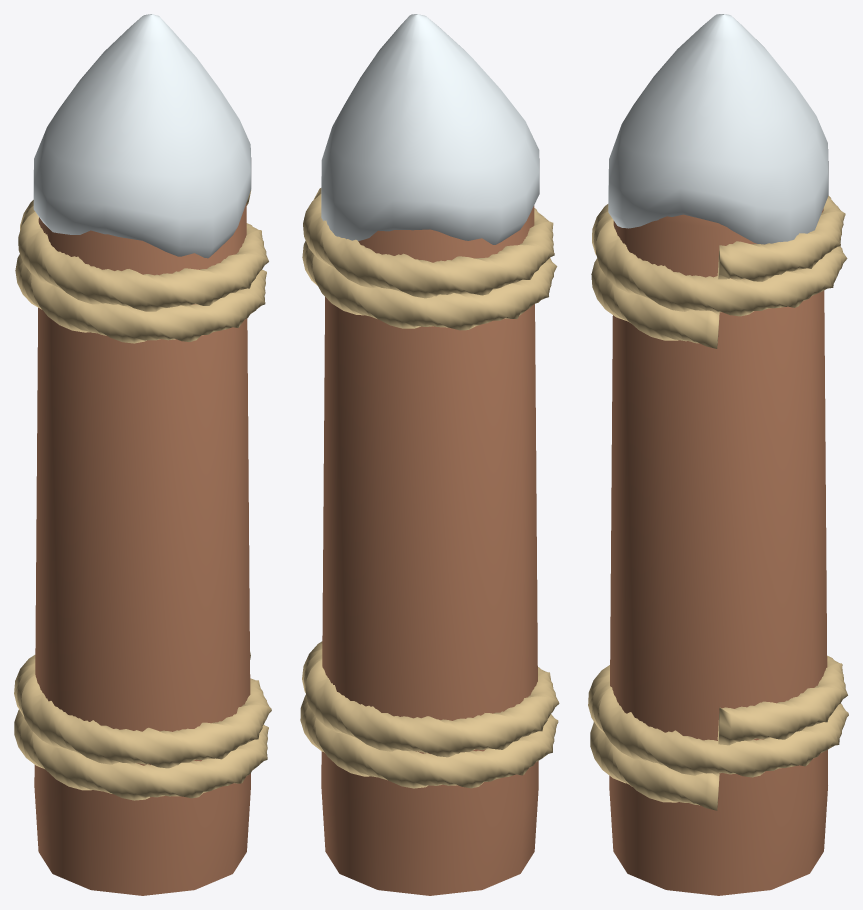
Rendered from snowbound_gate_post.obj.
3 views of the same model, side by side, from view 1: azimuth 30°, elevation 25°; view 2: azimuth 150°, elevation 25°; view 3: azimuth 270°, elevation 25° (orthographic).
Visible parts, largest first — view 1: snowbound_gate_post; view 2: snowbound_gate_post; view 3: snowbound_gate_post.
Boxes of the visible parts, left/top/right/bottom form: snowbound_gate_post: left=14, top=14, right=271, bottom=895; snowbound_gate_post: left=300, top=14, right=559, bottom=895; snowbound_gate_post: left=588, top=14, right=848, bottom=895.
Bounding box in the file's own units: 0.5034 × 1.79 × 0.5027.
